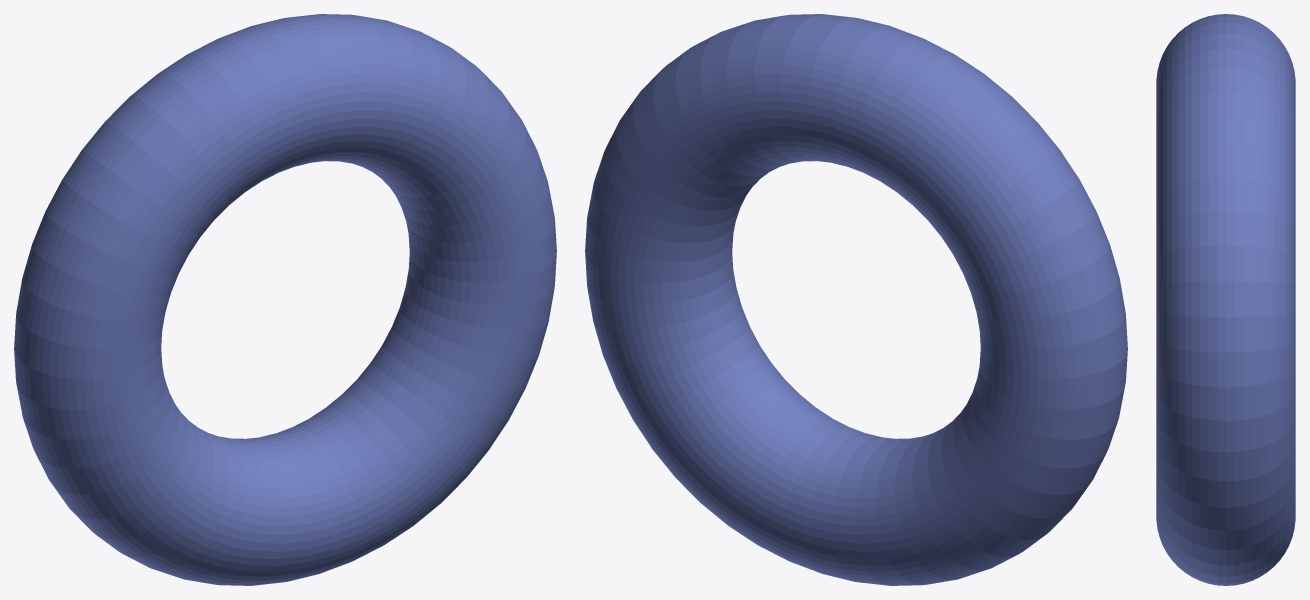
3 renders of one model, left to right at view 1: azimuth 30°, elevation 25°; view 2: azimuth 150°, elevation 25°; view 3: azimuth 270°, elevation 25°, orthographic. The views are drawn at different scales.
Parts seen in each view (by area): view 1: world; view 2: world; view 3: world.
Boxes of the visible parts, x1,y1,x2,y2 form: world: [14, 14, 556, 585]; world: [585, 14, 1127, 585]; world: [1156, 14, 1295, 585].
Size of the model in its own units: 15.87 by 15.84 by 3.86.
